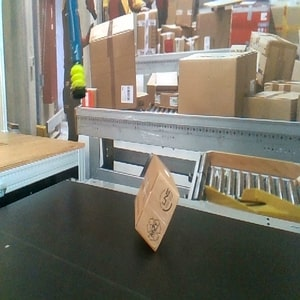box: (132, 153, 181, 253)
